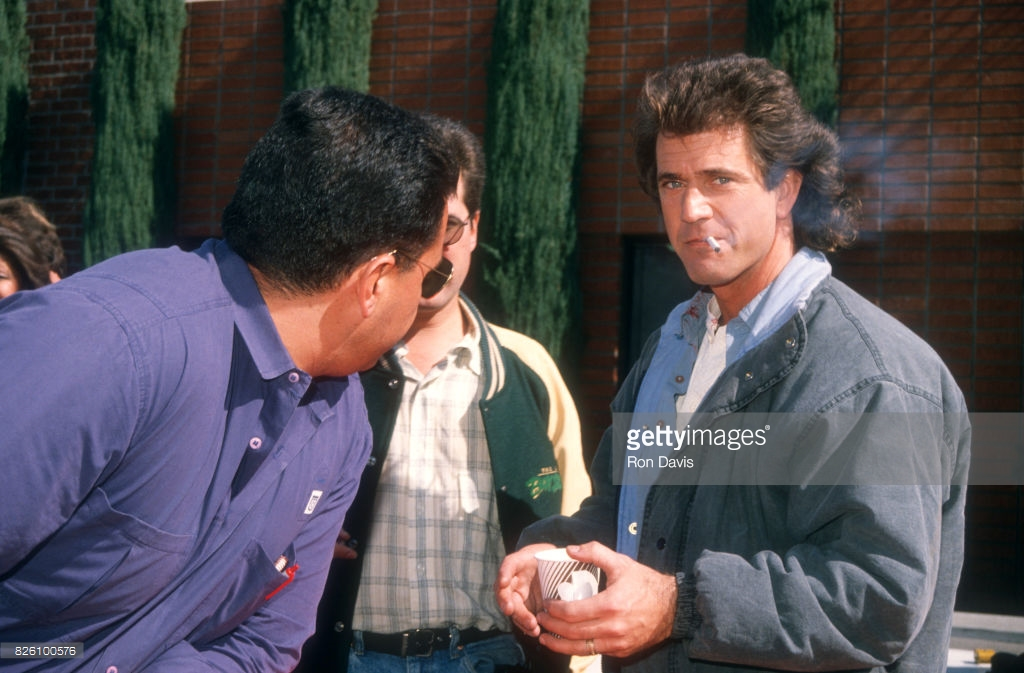cigarette: (694, 231, 732, 264)
